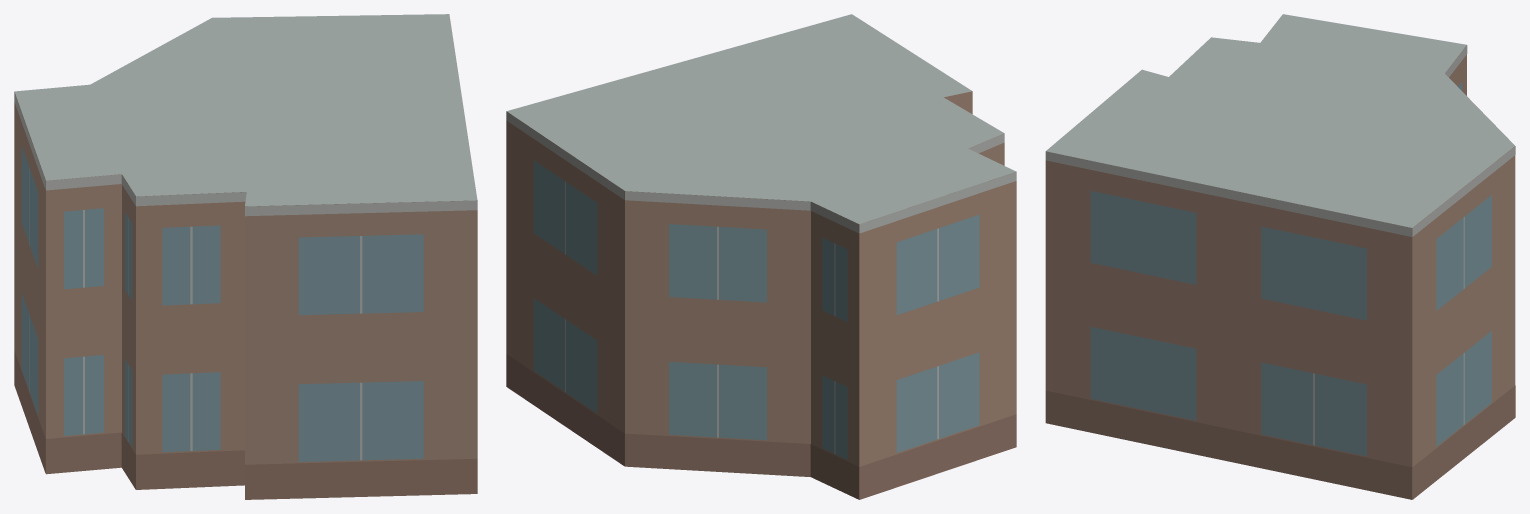
The model's file is survey-upis-33028277.glb.
3 views of the same model, side by side, from view 1: azimuth 30°, elevation 25°; view 2: azimuth 150°, elevation 25°; view 3: azimuth 270°, elevation 25° (orthographic). The views are drawn at different scales.
Visible parts, largest first — view 1: survey-upis-33028277.tmp; view 2: survey-upis-33028277.tmp; view 3: survey-upis-33028277.tmp.
Part boxes in pixels (left/top/right/bottom): survey-upis-33028277.tmp: left=14, top=14, right=477, bottom=499; survey-upis-33028277.tmp: left=506, top=14, right=1016, bottom=499; survey-upis-33028277.tmp: left=1045, top=14, right=1515, bottom=499.
Bounding box in the file's own units: 12.33 × 7.3 × 11.44.
